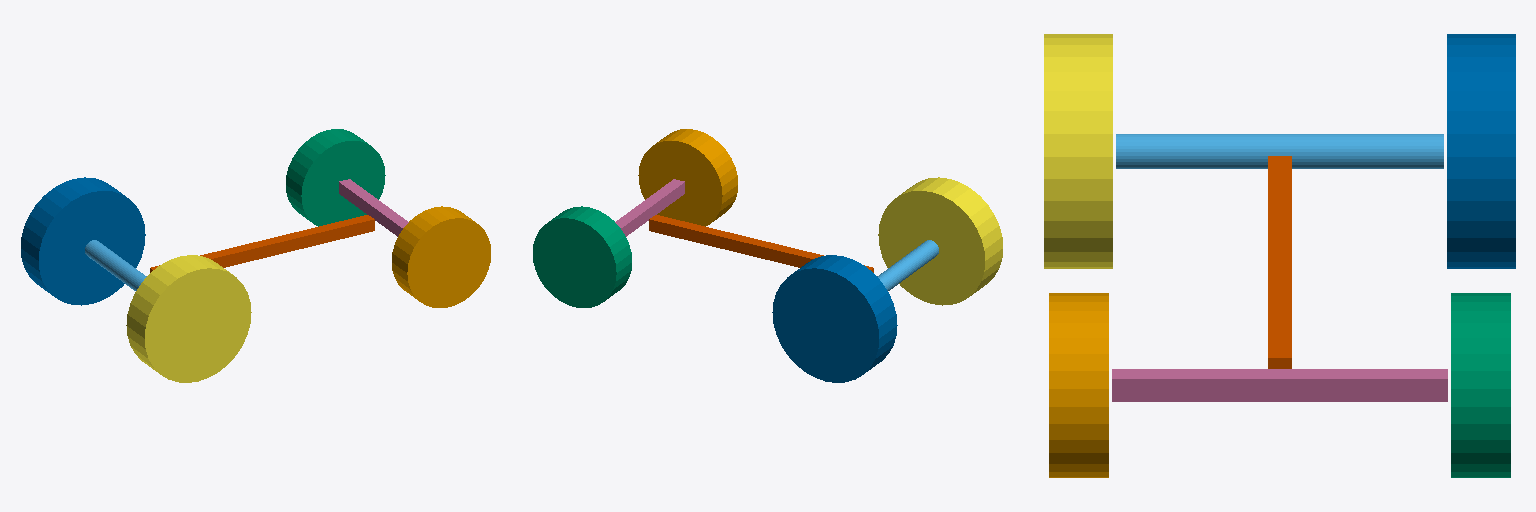
URDF robot description (vehicle):
<?xml version="1.0" ?>
<robot name="vehicle">

  <joint name="vehicle__center_axel__front_axel" type="revolute">
    <parent link="vehicle__center_axel"/>
    <child link="vehicle__front_axel"/>
    <origin xyz="0.78 0   0" rpy="0     0     1.5708"/>
    <axis xyz="0 0 1"/>
    <limit lower="-0.4795" upper="0.4795" effort="5.0" velocity="1.0"/>
  </joint>
  
  <joint name="vehicle__front_axel__front_left_wheel" type="continuous">
    <parent link="vehicle__front_axel"/>
    <child link="vehicle__front_left_wheel"/>
    <origin xyz="0.56699 0      0" rpy="1.5708  0     -1.5708"/>
    <axis xyz="0 0 1"/>
    <limit effort="1.0" velocity="1.0"/>
  </joint>
  
  <joint name="vehicle__front_axel__front_right_wheel" type="continuous">
    <parent link="vehicle__front_axel"/>
    <child link="vehicle__front_right_wheel"/>
    <origin xyz="-0.56699  0       0" rpy="1.5708  0     -1.5708"/>
    <axis xyz="0 0 1"/>
    <limit effort="1.0" velocity="1.0"/>
  </joint>
  
  <joint name="vehicle__rear_axel__rear_left_wheel" type="fixed">
    <parent link="vehicle__rear_axel"/>
    <child link="vehicle__rear_left_wheel"/>
    <origin xyz="0       0      -0.56699" rpy="0 0 0"/>
    <axis xyz="0 0 0"/>
    <limit lower="0" upper="0" effort="0" velocity="0"/>
  </joint>
  
  <joint name="vehicle__rear_axel__rear_right_wheel" type="fixed">
    <parent link="vehicle__rear_axel"/>
    <child link="vehicle__rear_right_wheel"/>
    <origin xyz="0      0      0.56699" rpy="0 0 0"/>
    <axis xyz="0 0 0"/>
    <limit lower="0" upper="0" effort="0" velocity="0"/>
  </joint>
  
  <joint name="vehicle__center_axel__rear_axel" type="continuous">
    <parent link="vehicle__center_axel"/>
    <child link="vehicle__rear_axel"/>
    <origin xyz="-0.78  0    0" rpy="1.5708 0     0"/>
    <axis xyz="0 0 -1"/>
    <limit effort="10.0" velocity="1.0"/>
  </joint>
  
  <link name="vehicle__front_right_wheel">
    <inertial>
      <mass value="2.70774"/>
      <origin xyz="0 0 0" rpy="0 0 0"/>
      <inertia ixx="0.0522819" ixy="0" ixz="0" iyy="0.0522819" iyz="0" izz="0.0915216"/>
    </inertial>
    <collision name="vehicle__collision">
      <origin xyz="0 0 0" rpy="0 0 0"/>
      <geometry>
        <cylinder radius="0.26" length="0.17"/>
      </geometry>
    </collision>
    <visual name="vehicle__visual">
      <origin xyz="0 0 0" rpy="0 0 0"/>
      <geometry>
        <cylinder radius="0.26" length="0.17"/>
      </geometry>
    </visual>
  </link>
  
  <link name="vehicle__rear_axel">
    <inertial>
      <mass value="0.923608"/>
      <origin xyz="0 0 0" rpy="0 0 0"/>
      <inertia ixx="0.0662345" ixy="0" ixz="0" iyy="0.0662345" iyz="0" izz="0.00115451"/>
    </inertial>
    <collision name="vehicle__collision">
      <origin xyz="0 0 0" rpy="0 0 0"/>
      <geometry>
        <cylinder radius="0.05" length="0.923609"/>
      </geometry>
    </collision>
    <visual name="vehicle__visual">
      <origin xyz="0 0 0" rpy="0 0 0"/>
      <geometry>
        <cylinder radius="0.05" length="0.923609"/>
      </geometry>
    </visual>
  </link>
  
  <link name="vehicle__front_left_wheel">
    <inertial>
      <mass value="2.70774"/>
      <origin xyz="0 0 0" rpy="0 0 0"/>
      <inertia ixx="0.0522819" ixy="0" ixz="0" iyy="0.0522819" iyz="0" izz="0.0915216"/>
    </inertial>
    <collision name="vehicle__collision">
      <origin xyz="0 0 0" rpy="0 0 0"/>
      <geometry>
        <cylinder radius="0.26" length="0.17"/>
      </geometry>
    </collision>
    <visual name="vehicle__visual">
      <origin xyz="0 0 0" rpy="0 0 0"/>
      <geometry>
        <cylinder radius="0.26" length="0.17"/>
      </geometry>
    </visual>
  </link>
  
  <link name="vehicle__rear_right_wheel">
    <inertial>
      <mass value="4.99293"/>
      <origin xyz="0 0 0" rpy="0 0 0"/>
      <inertia ixx="0.152004" ixy="0" ixz="0" iyy="0.152004" iyz="0" izz="0.27269"/>
    </inertial>
    <collision name="vehicle__collision">
      <origin xyz="0 0 0" rpy="0 0 0"/>
      <geometry>
        <cylinder radius="0.3305" length="0.194"/>
      </geometry>
    </collision>
    <visual name="vehicle__visual">
      <origin xyz="0 0 0" rpy="0 0 0"/>
      <geometry>
        <cylinder radius="0.3305" length="0.194"/>
      </geometry>
    </visual>
  </link>
  
  <link name="vehicle__rear_left_wheel">
    <inertial>
      <mass value="4.99293"/>
      <origin xyz="0 0 0" rpy="0 0 0"/>
      <inertia ixx="0.152004" ixy="0" ixz="0" iyy="0.152004" iyz="0" izz="0.27269"/>
    </inertial>
    <collision name="vehicle__collision">
      <origin xyz="0 0 0" rpy="0 0 0"/>
      <geometry>
        <cylinder radius="0.3305" length="0.194"/>
      </geometry>
    </collision>
    <visual name="vehicle__visual">
      <origin xyz="0 0 0" rpy="0 0 0"/>
      <geometry>
        <cylinder radius="0.3305" length="0.194"/>
      </geometry>
    </visual>
  </link>
  
  <link name="vehicle__center_axel">
    <inertial>
      <mass value="0.495529"/>
      <origin xyz="0 0 0" rpy="0 0 0"/>
      <inertia ixx="0.00040468" ixy="0" ixz="0" iyy="0.0752801" iyz="0" izz="0.0752801"/>
    </inertial>
    <collision name="vehicle__collision">
      <origin xyz="0 0 0" rpy="0 0 0"/>
      <geometry>
        <box size="1.34838 0.07 0.07"/>
      </geometry>
    </collision>
    <visual name="vehicle__visual">
      <origin xyz="0 0 0" rpy="0 0 0"/>
      <geometry>
        <box size="1.34838 0.07 0.07"/>
      </geometry>
    </visual>
  </link>
  
  <link name="vehicle__front_axel">
    <inertial>
      <mass value="0.348248"/>
      <origin xyz="0 0 0" rpy="0 0 0"/>
      <inertia ixx="0.0002844" ixy="0" ixz="0" iyy="0.026202" iyz="0" izz="0.026202"/>
    </inertial>
    <collision name="vehicle__collision">
      <origin xyz="0 0 0" rpy="0 0 0"/>
      <geometry>
        <box size="0.947614 0.07 0.07"/>
      </geometry>
    </collision>
    <visual name="vehicle__visual">
      <origin xyz="0 0 0" rpy="0 0 0"/>
      <geometry>
        <box size="0.947614 0.07 0.07"/>
      </geometry>
    </visual>
  </link>
  
  <transmission name="tran_front_steering">
    <type>transmission_interface/SimpleTransmission</type>
	  <joint name="vehicle__center_axel__front_axel">
  	  <hardwareInterface>hardware_interface/PositionJointInterface</hardwareInterface>
  	</joint>
    <actuator name="motor__vehicle__center_axel__front_axel">
      <hardwareInterface>hardware_interface/PositionJointInterface</hardwareInterface>
      <mechanicalReduction>1</mechanicalReduction>
    </actuator>
  </transmission>   

  <transmission name="tran_rear_drive">
    <type>transmission_interface/SimpleTransmission</type>
	  <joint name="vehicle__center_axel__rear_axel">
	    <hardwareInterface>hardware_interface/VelocityJointInterface</hardwareInterface>
	  </joint>
    <actuator name="motor__vehicle__center_axel__rear_axel">
      <hardwareInterface>hardware_interface/VelocityJointInterface</hardwareInterface>
      <mechanicalReduction>1</mechanicalReduction>
    </actuator>
  </transmission>  

  <gazebo>
    <self_collide>1</self_collide>
    
    <plugin name="gazebo_ros_control" filename="libgazebo_ros_control.so">
      <robotNamespace></robotNamespace>
      <robotSimType>gazebo_ros_control/DefaultRobotHWSim</robotSimType>
      <legacyModeNS>false</legacyModeNS>
    </plugin>
    
	<plugin name="joint_state_publisher" filename="libgazebo_ros_joint_state_publisher.so">
    <jointName>
  		vehicle__center_axel__rear_axel,
  		vehicle__center_axel__front_axel,
  		vehicle__front_axel__front_right_wheel,
  		vehicle__front_axel__front_left_wheel
    </jointName>
  </plugin>
  </gazebo>
</robot>

--- What the picture shows (computed from the rendered views, not written in the file) ---
The picture shows the robot from 3 angles, left to right: view 1: azimuth 30°, elevation 25°; view 2: azimuth 150°, elevation 25°; view 3: azimuth 270°, elevation 25°; orthographic projection.
Robot: vehicle — 7 links, 6 joints (1 revolute, 3 continuous, 2 fixed); root link vehicle__center_axel; default pose: every joint at zero.
Links seen in each view (by area): view 1: vehicle__rear_right_wheel, vehicle__rear_left_wheel, vehicle__front_right_wheel, vehicle__front_left_wheel, vehicle__center_axel, vehicle__front_axel, vehicle__rear_axel; view 2: vehicle__rear_left_wheel, vehicle__rear_right_wheel, vehicle__front_left_wheel, vehicle__front_right_wheel, vehicle__center_axel, vehicle__front_axel, vehicle__rear_axel; view 3: vehicle__rear_right_wheel, vehicle__rear_left_wheel, vehicle__rear_axel, vehicle__front_right_wheel, vehicle__front_left_wheel, vehicle__front_axel, vehicle__center_axel.
Boxes of the visible links, <box> form: vehicle__rear_right_wheel: <box>126,255,251,382</box>; vehicle__rear_left_wheel: <box>21,177,145,305</box>; vehicle__front_right_wheel: <box>392,206,490,307</box>; vehicle__front_left_wheel: <box>286,129,385,226</box>; vehicle__center_axel: <box>150,215,374,272</box>; vehicle__front_axel: <box>339,179,408,236</box>; vehicle__rear_axel: <box>85,240,146,290</box>; vehicle__rear_left_wheel: <box>772,255,897,382</box>; vehicle__rear_right_wheel: <box>878,177,1002,305</box>; vehicle__front_left_wheel: <box>533,206,631,307</box>; vehicle__front_right_wheel: <box>638,129,737,226</box>; vehicle__center_axel: <box>649,215,873,272</box>; vehicle__front_axel: <box>615,179,684,236</box>; vehicle__rear_axel: <box>877,240,938,290</box>; vehicle__rear_right_wheel: <box>1044,34,1112,268</box>; vehicle__rear_left_wheel: <box>1447,34,1515,268</box>; vehicle__rear_axel: <box>1116,134,1443,168</box>; vehicle__front_right_wheel: <box>1049,293,1108,477</box>; vehicle__front_left_wheel: <box>1451,293,1510,477</box>; vehicle__front_axel: <box>1112,369,1447,401</box>; vehicle__center_axel: <box>1268,156,1291,368</box>.
Bounding box of the posed robot: 2.15 × 1.33 × 0.661 m (x, y, z).
Geometry: primitives only (box / cylinder / sphere), no mesh files.